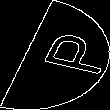P_W: (10, 30, 100, 80)
